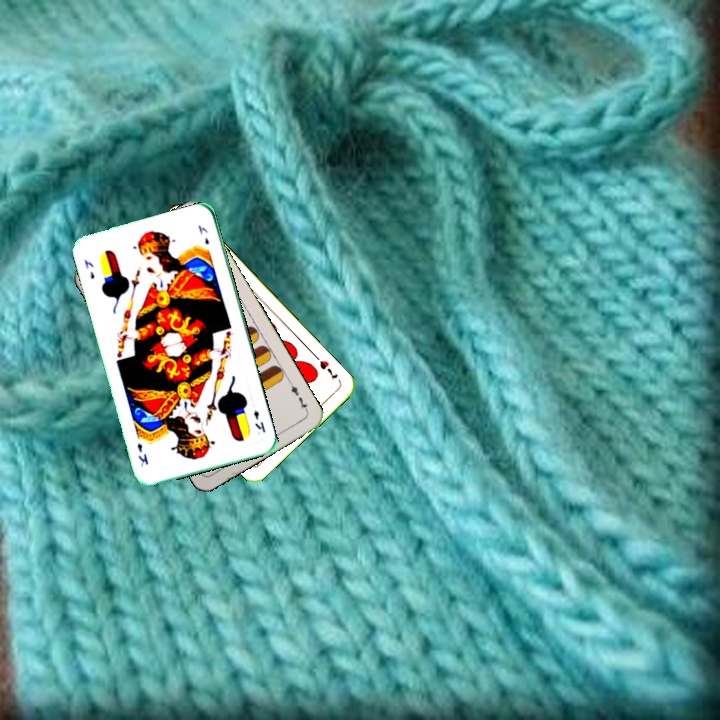E7: (285, 377, 311, 415)
EK: (250, 406, 268, 435), (80, 255, 97, 282)
H7: (316, 356, 341, 383)
